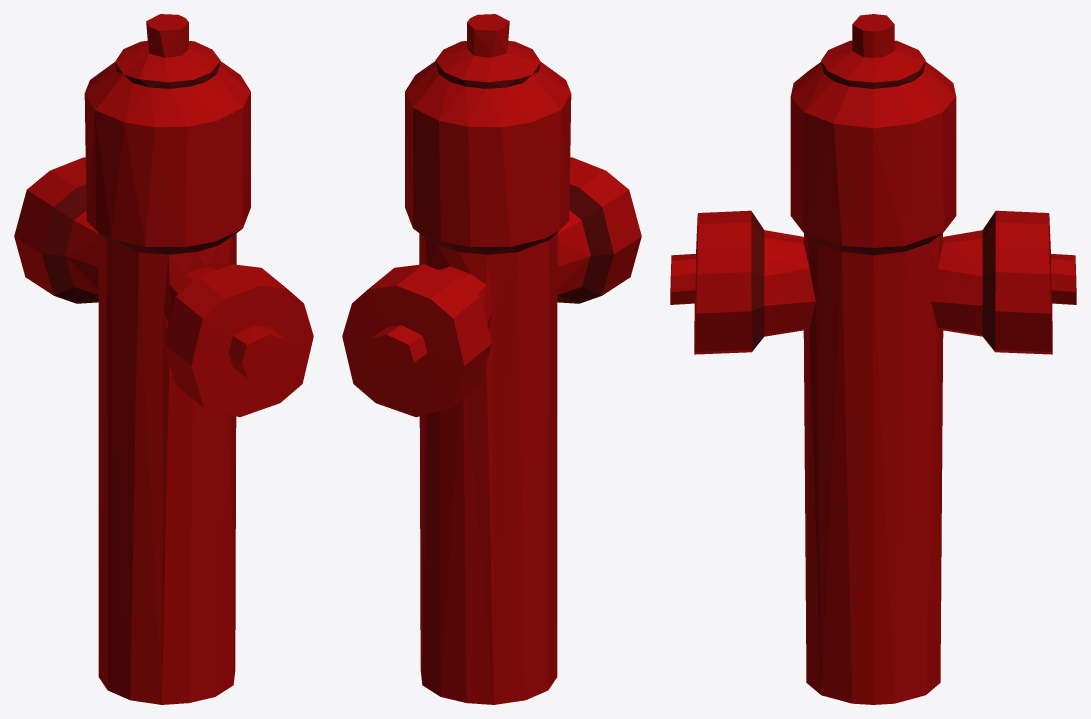
The model's file is Model_Hydrant.fbx.
The picture shows the model from 3 angles, left to right: view 1: azimuth 30°, elevation 25°; view 2: azimuth 150°, elevation 25°; view 3: azimuth 270°, elevation 25°; orthographic projection.
Parts seen in each view (by area): view 1: Cylinder; view 2: Cylinder; view 3: Cylinder.
Boxes of the visible parts, x1,y1,x2,y2 form: Cylinder: (14,14,313,704); Cylinder: (342,14,641,704); Cylinder: (670,14,1076,704).
Bounding box in the file's own units: 35.97 × 63.79 × 14.88.
